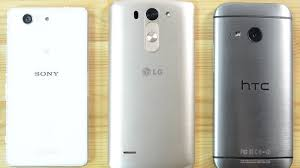htc: (206, 1, 297, 168)
lg: (104, 1, 195, 168)
sony: (3, 1, 94, 168)
